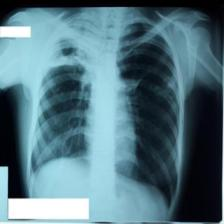tuberculosis: (24, 17, 180, 211)
